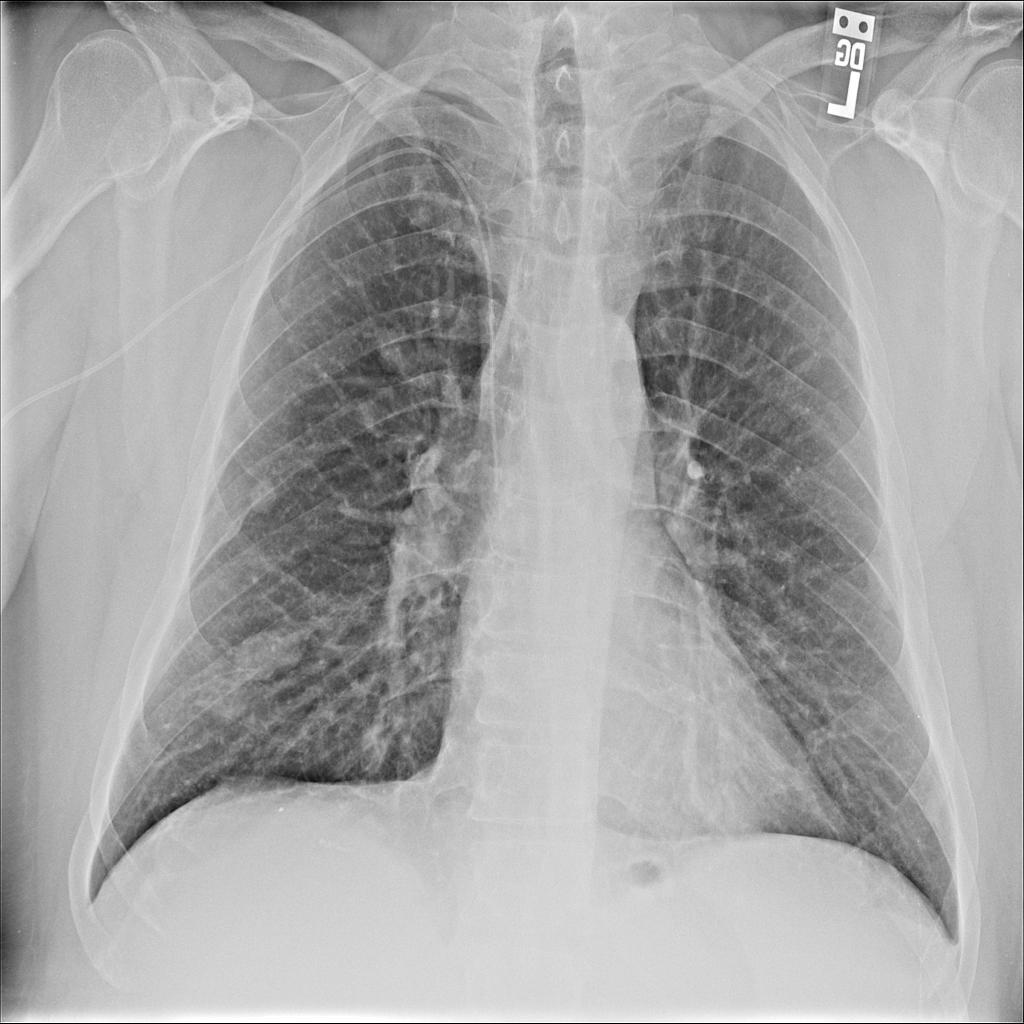Nodule: (219, 628, 316, 692), (248, 481, 282, 517)
